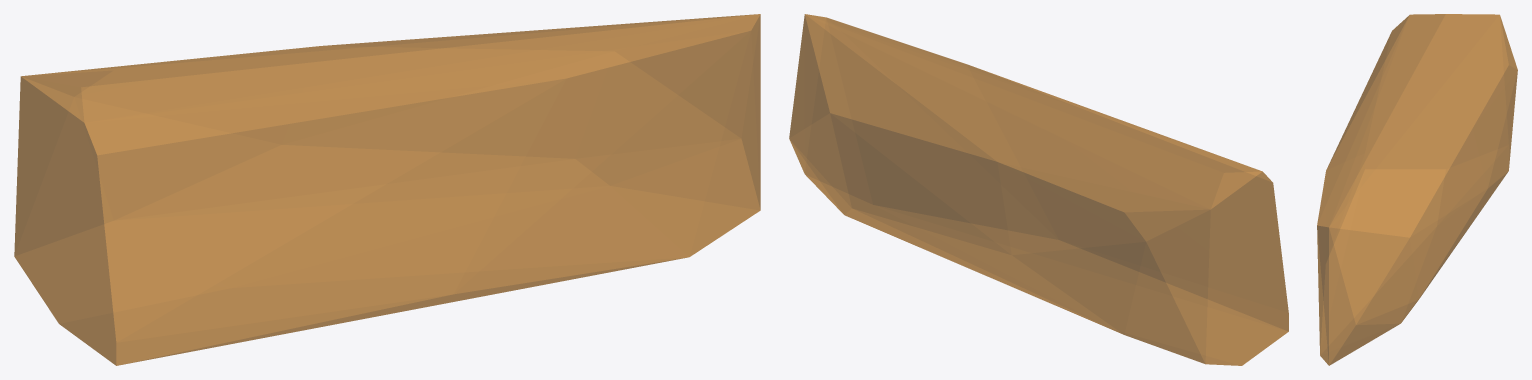
3 renders of one model, left to right at view 1: azimuth 30°, elevation 25°; view 2: azimuth 150°, elevation 25°; view 3: azimuth 270°, elevation 25°, orthographic. The views are drawn at different scales.
Visible parts, largest first — view 1: Shape_IndexedFaceSet.011_Shape_IndexedFaceSet.7637; view 2: Shape_IndexedFaceSet.011_Shape_IndexedFaceSet.7637; view 3: Shape_IndexedFaceSet.011_Shape_IndexedFaceSet.7637.
Part boxes in pixels (x1=…): Shape_IndexedFaceSet.011_Shape_IndexedFaceSet.7637: x1=14, y1=14, x2=760, y2=365; Shape_IndexedFaceSet.011_Shape_IndexedFaceSet.7637: x1=789, y1=14, x2=1288, y2=365; Shape_IndexedFaceSet.011_Shape_IndexedFaceSet.7637: x1=1317, y1=14, x2=1517, y2=365.
Bounding box in the file's own units: 0.4707 × 0.1681 × 0.1877.
